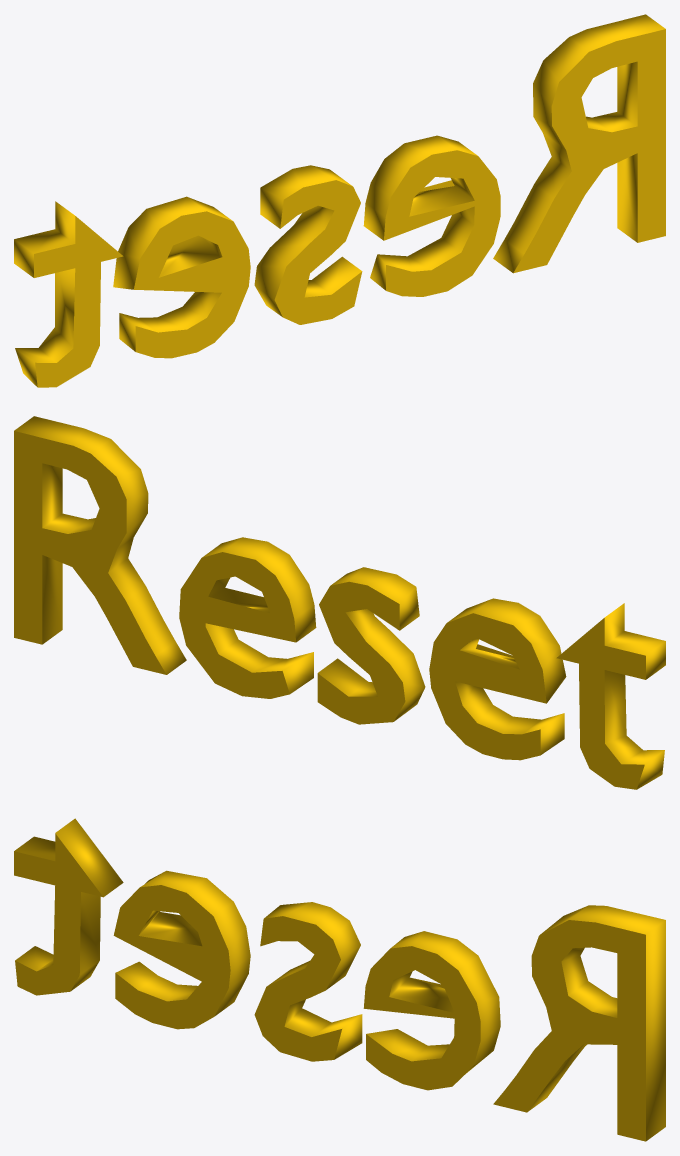
The model's file is fonts.glb.
The picture shows the model from 3 angles, top to bottom: view 1: azimuth 30°, elevation 25°; view 2: azimuth 150°, elevation 25°; view 3: azimuth 330°, elevation 25°; orthographic projection.
Parts seen in each view (by area): view 1: Text; view 2: Text; view 3: Text.
Part boxes in pixels (x1,y1,x2,y2): Text: (14,14,665,387); Text: (14,416,665,789); Text: (14,818,665,1141).
Bounding box in the file's own units: 1.49 × 0.4726 × 0.0821.
1 material, 1 textured.
